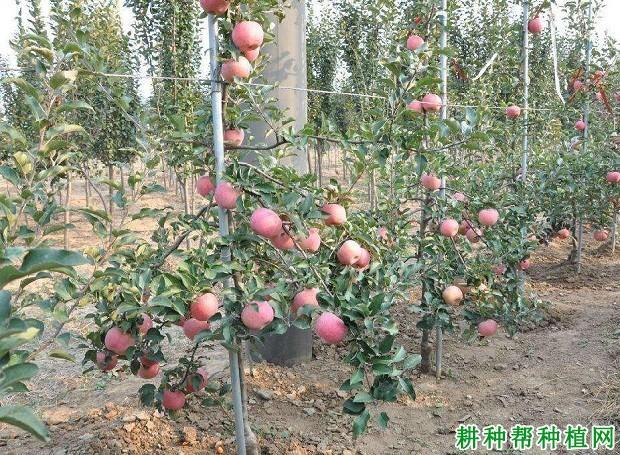apple: (249, 207, 283, 239), (316, 311, 347, 343), (241, 300, 274, 329), (233, 21, 263, 52), (213, 180, 243, 209), (191, 291, 220, 321), (105, 326, 136, 354), (222, 57, 252, 82), (319, 204, 347, 228), (182, 316, 210, 339), (338, 239, 361, 266), (136, 355, 160, 378), (420, 93, 444, 114), (163, 389, 185, 411), (225, 126, 246, 147), (443, 285, 464, 305), (477, 209, 499, 228), (421, 173, 442, 191), (440, 218, 459, 237), (478, 318, 498, 336)
